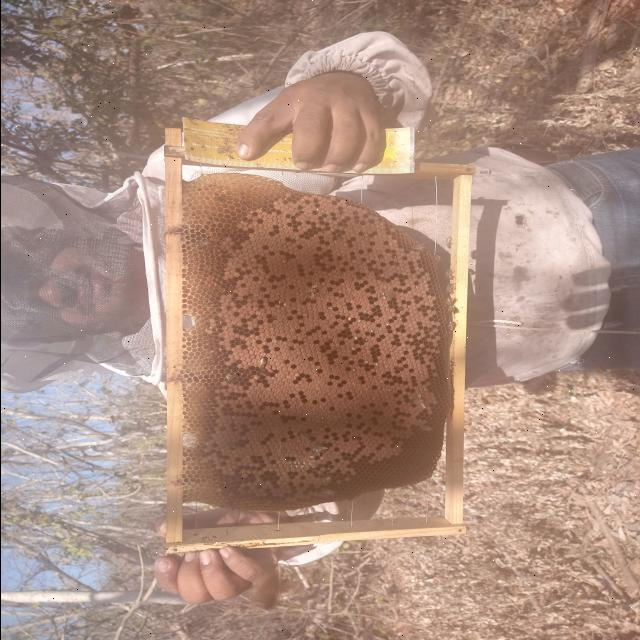cria: (201, 191, 442, 505)
marco: (182, 163, 451, 536)
